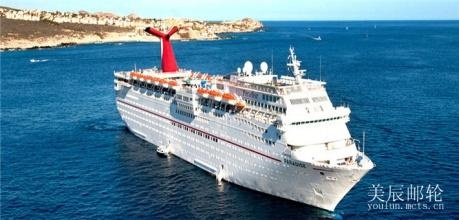youlun: (111, 33, 367, 206)
